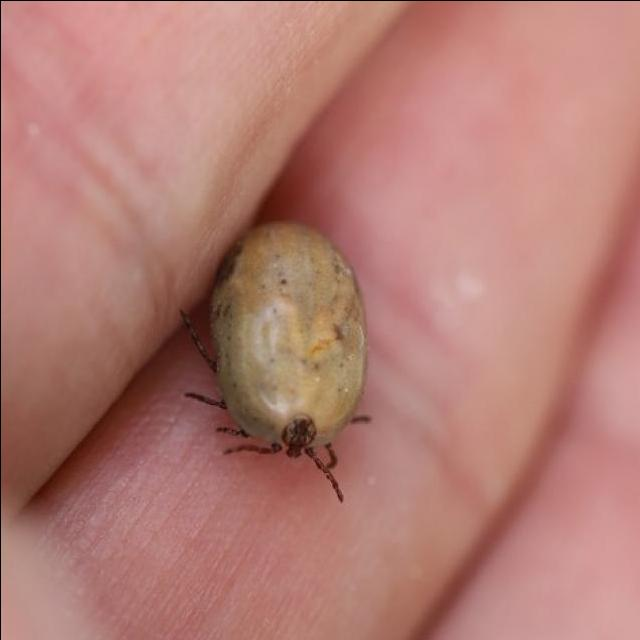Dermacentor Reticulatus-F-Fed: (178, 219, 371, 501)
